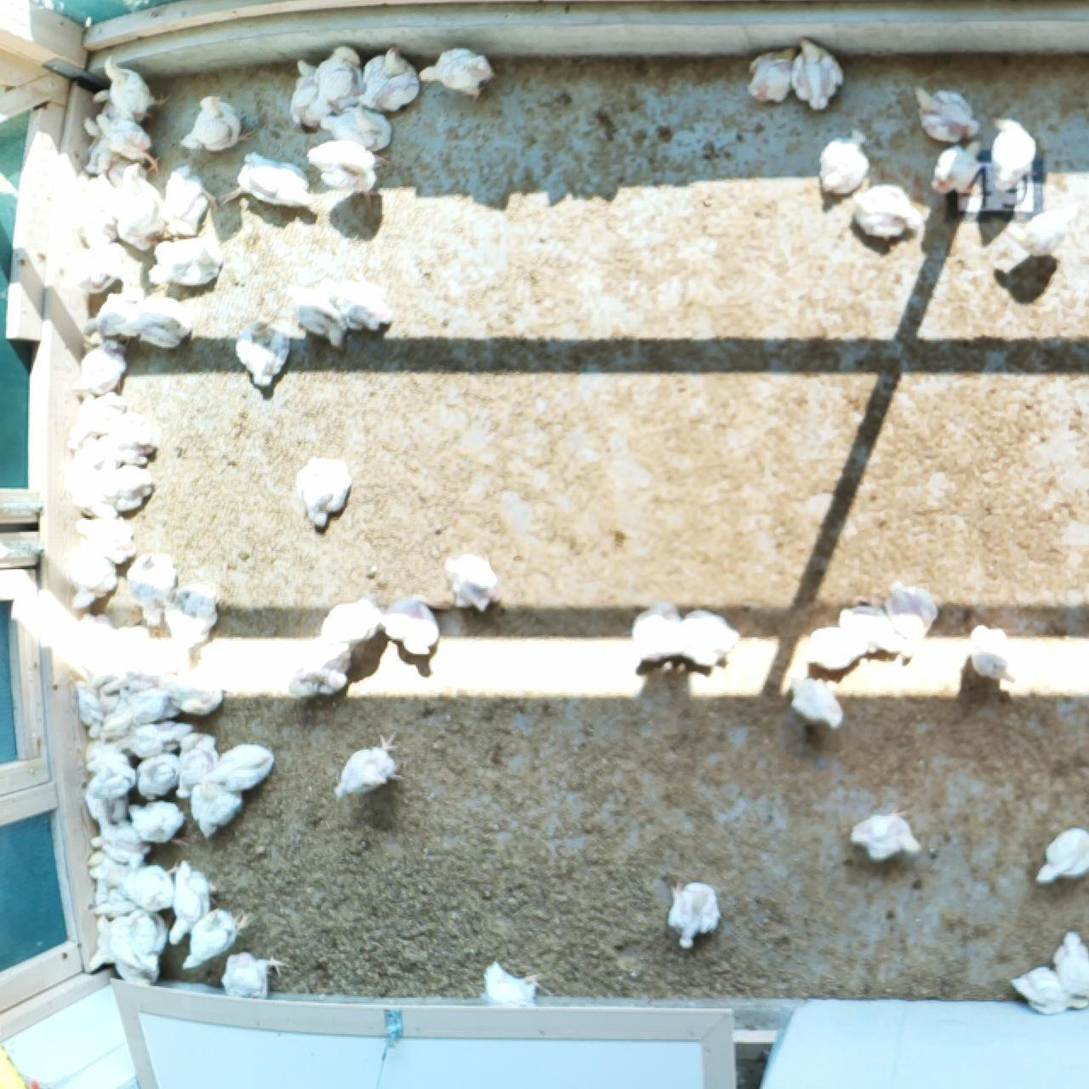chicken: (214, 145, 321, 220), (300, 135, 393, 209), (160, 855, 228, 951), (177, 902, 258, 976), (330, 727, 406, 804), (161, 580, 227, 668), (290, 450, 356, 537), (846, 178, 931, 244), (1002, 198, 1085, 265), (844, 799, 926, 866), (657, 874, 729, 950), (282, 630, 354, 706), (112, 291, 197, 355), (175, 91, 258, 155), (790, 32, 848, 120), (904, 81, 981, 147), (230, 314, 295, 392), (416, 44, 500, 104), (142, 230, 226, 290), (157, 161, 221, 239), (97, 50, 170, 117), (284, 281, 349, 355), (61, 386, 130, 455), (375, 592, 445, 660), (674, 606, 748, 670), (1006, 961, 1089, 1018), (124, 547, 181, 630), (781, 666, 853, 731), (113, 160, 165, 250), (197, 736, 279, 793), (818, 124, 876, 204), (56, 539, 122, 609), (986, 110, 1041, 194), (94, 111, 165, 175), (359, 42, 422, 113), (437, 546, 504, 612), (110, 910, 168, 986), (106, 855, 189, 908), (880, 575, 945, 642), (331, 269, 396, 335), (314, 101, 399, 151), (790, 619, 870, 672), (66, 337, 132, 401), (742, 43, 801, 112), (316, 596, 390, 650), (125, 799, 196, 855), (311, 42, 366, 114), (72, 511, 144, 566), (1032, 821, 1089, 890), (629, 594, 683, 666), (840, 599, 909, 655), (217, 947, 287, 999), (966, 618, 1019, 686), (191, 782, 251, 839), (113, 718, 199, 757), (67, 235, 127, 290), (97, 461, 159, 514), (478, 958, 545, 1007), (1048, 926, 1089, 1004), (80, 292, 145, 340), (70, 110, 115, 178), (158, 669, 226, 714), (87, 817, 152, 862), (64, 458, 114, 515), (133, 749, 187, 801), (79, 913, 124, 975), (179, 732, 221, 798), (112, 412, 163, 466), (101, 655, 168, 696), (284, 55, 322, 124), (83, 764, 139, 799), (86, 851, 139, 887), (78, 735, 131, 770), (75, 679, 105, 736), (88, 882, 134, 918), (115, 688, 170, 718), (81, 790, 131, 823), (102, 702, 136, 733)
